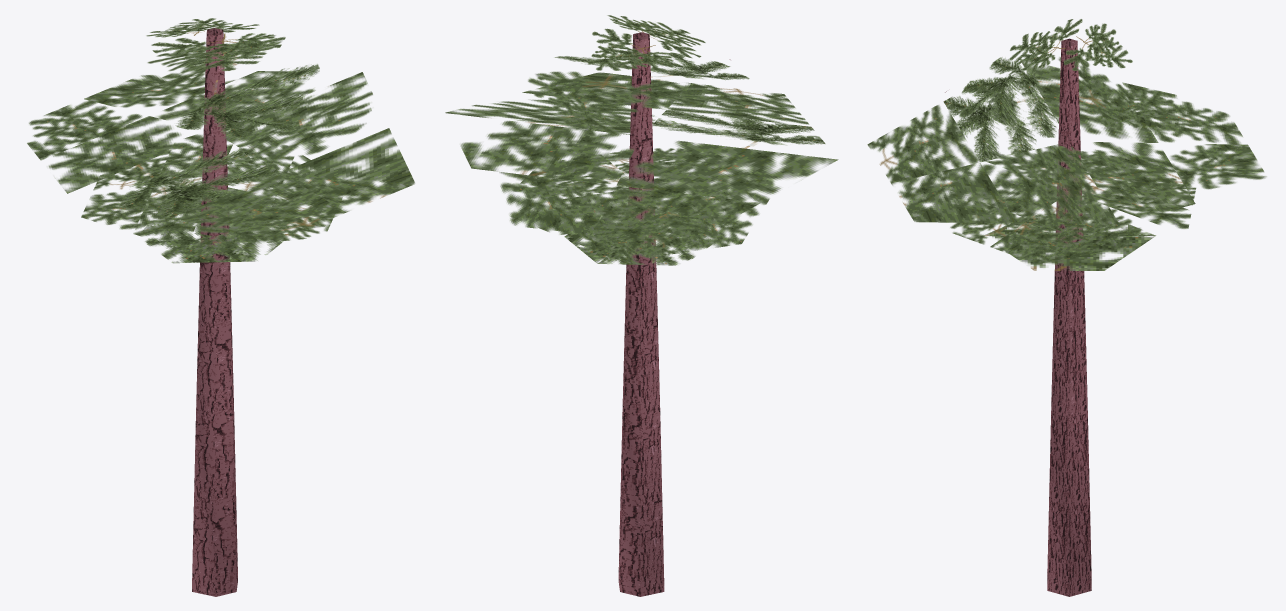
Rendered from mnty1.glb.
3 renders of one model, left to right at view 1: azimuth 30°, elevation 25°; view 2: azimuth 150°, elevation 25°; view 3: azimuth 270°, elevation 25°, orthographic. The views are drawn at different scales.
Parts seen in each view (by area): view 1: mnty1; view 2: mnty1; view 3: mnty1.
Part boxes in pixels (x1,y1,x2,y2): mnty1: [27, 18, 414, 596]; mnty1: [445, 15, 838, 596]; mnty1: [867, 19, 1266, 596].
Size of the model in its own units: 14.96 by 22.87 by 15.42.
Materials: 1 (1 with a texture image).
